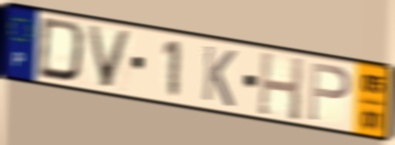1: (161, 39, 183, 100)
D: (35, 15, 88, 85)
H: (256, 49, 306, 124)
K: (200, 43, 239, 110)
P: (306, 60, 353, 124)
V: (85, 22, 135, 91)
